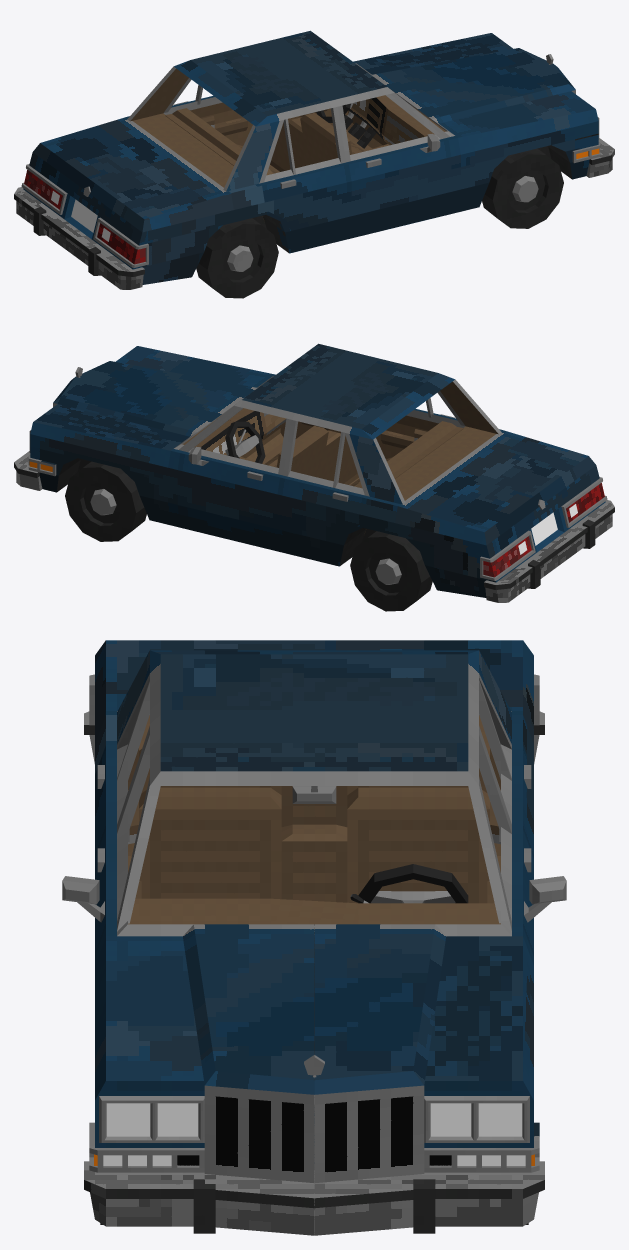
Rendered from cab.glb.
The picture shows the model from 3 angles, top to bottom: view 1: azimuth 30°, elevation 25°; view 2: azimuth 150°, elevation 25°; view 3: azimuth 270°, elevation 25°; orthographic projection. The views are drawn at different scales.
Parts seen in each view (by area): view 1: bone_1; view 2: bone_1; view 3: bone_1.
Boxes of the visible parts, x1,y1,x2,y2 form: bone_1: [14, 30, 614, 298]; bone_1: [14, 343, 614, 611]; bone_1: [62, 640, 566, 1235].
Bounding box in the file's own units: 6.69 × 2.31 × 2.87.
1 material, 1 textured.
